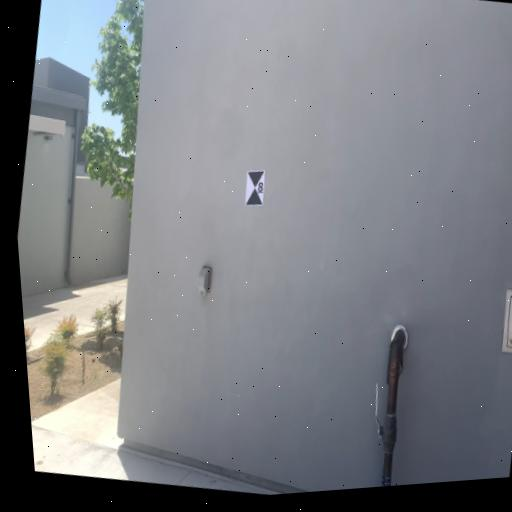target8: (241, 167, 269, 209)
